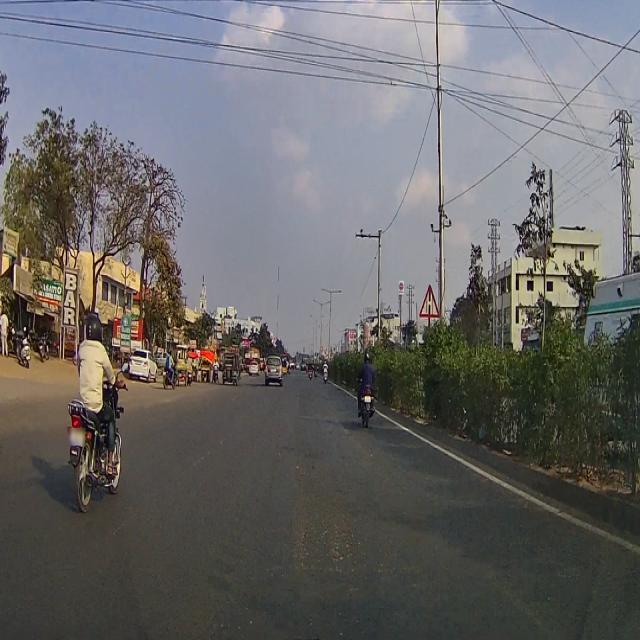gap-in-median: (418, 284, 439, 316)
